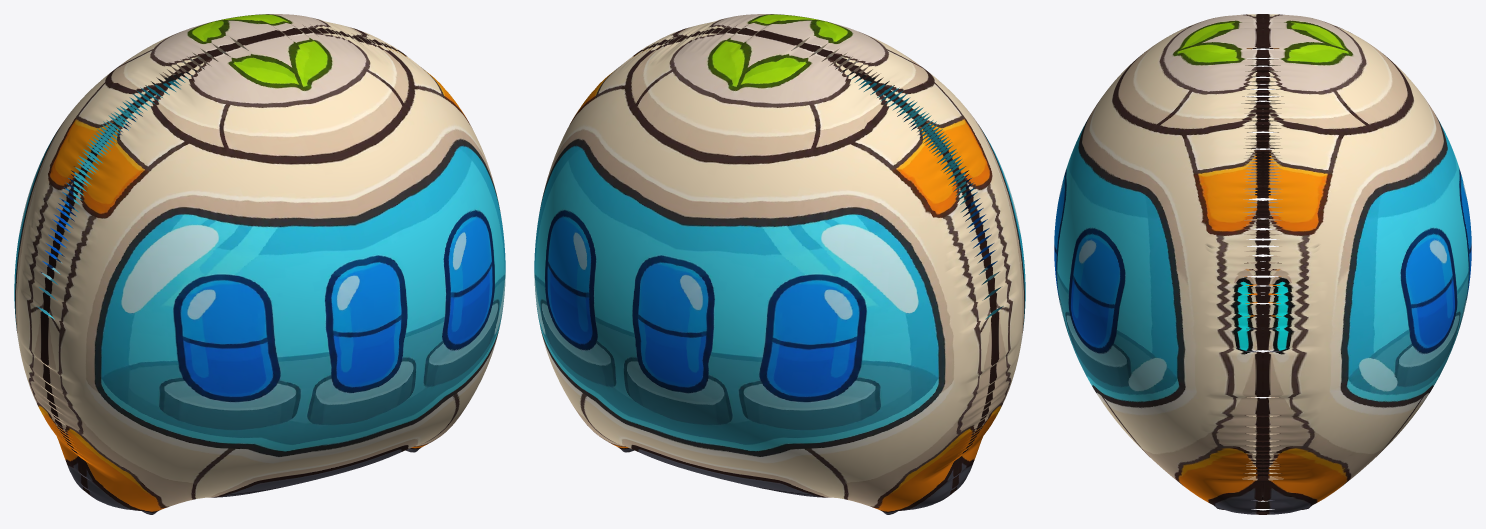
Rendered from sample_pod.glb.
3 views of the same model, side by side, from view 1: azimuth 30°, elevation 25°; view 2: azimuth 150°, elevation 25°; view 3: azimuth 270°, elevation 25° (orthographic). The views are drawn at different scales.
Parts seen in each view (by area): view 1: sample_pod; view 2: sample_pod; view 3: sample_pod.
Part boxes in pixels (bbox=[...]): sample_pod: bbox=[14, 14, 505, 514]; sample_pod: bbox=[534, 14, 1025, 514]; sample_pod: bbox=[1054, 14, 1471, 514].
Bounding box in the file's own units: 0.989 × 0.9398 × 0.8687.
Materials: 1 (1 with a texture image).
